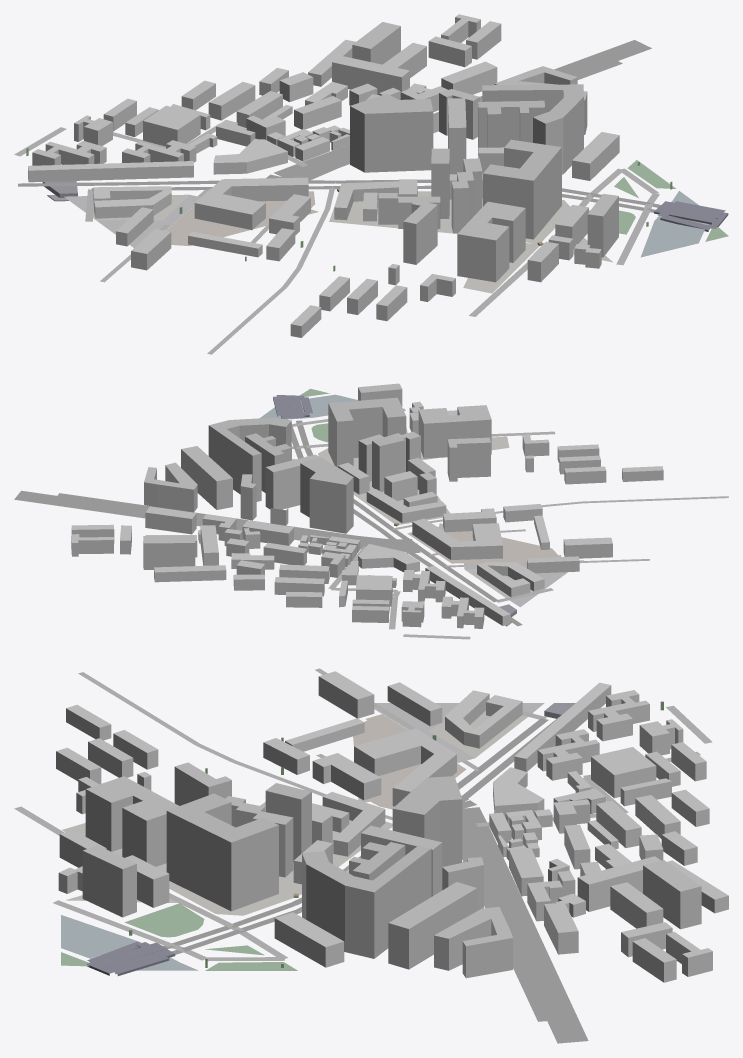
3 renders of one model, top to bottom at view 1: azimuth 30°, elevation 25°; view 2: azimuth 150°, elevation 25°; view 3: azimuth 270°, elevation 25°, orthographic. The views are drawn at different scales.
Bounding box in the file's own units: 699 × 71.28 × 565.
